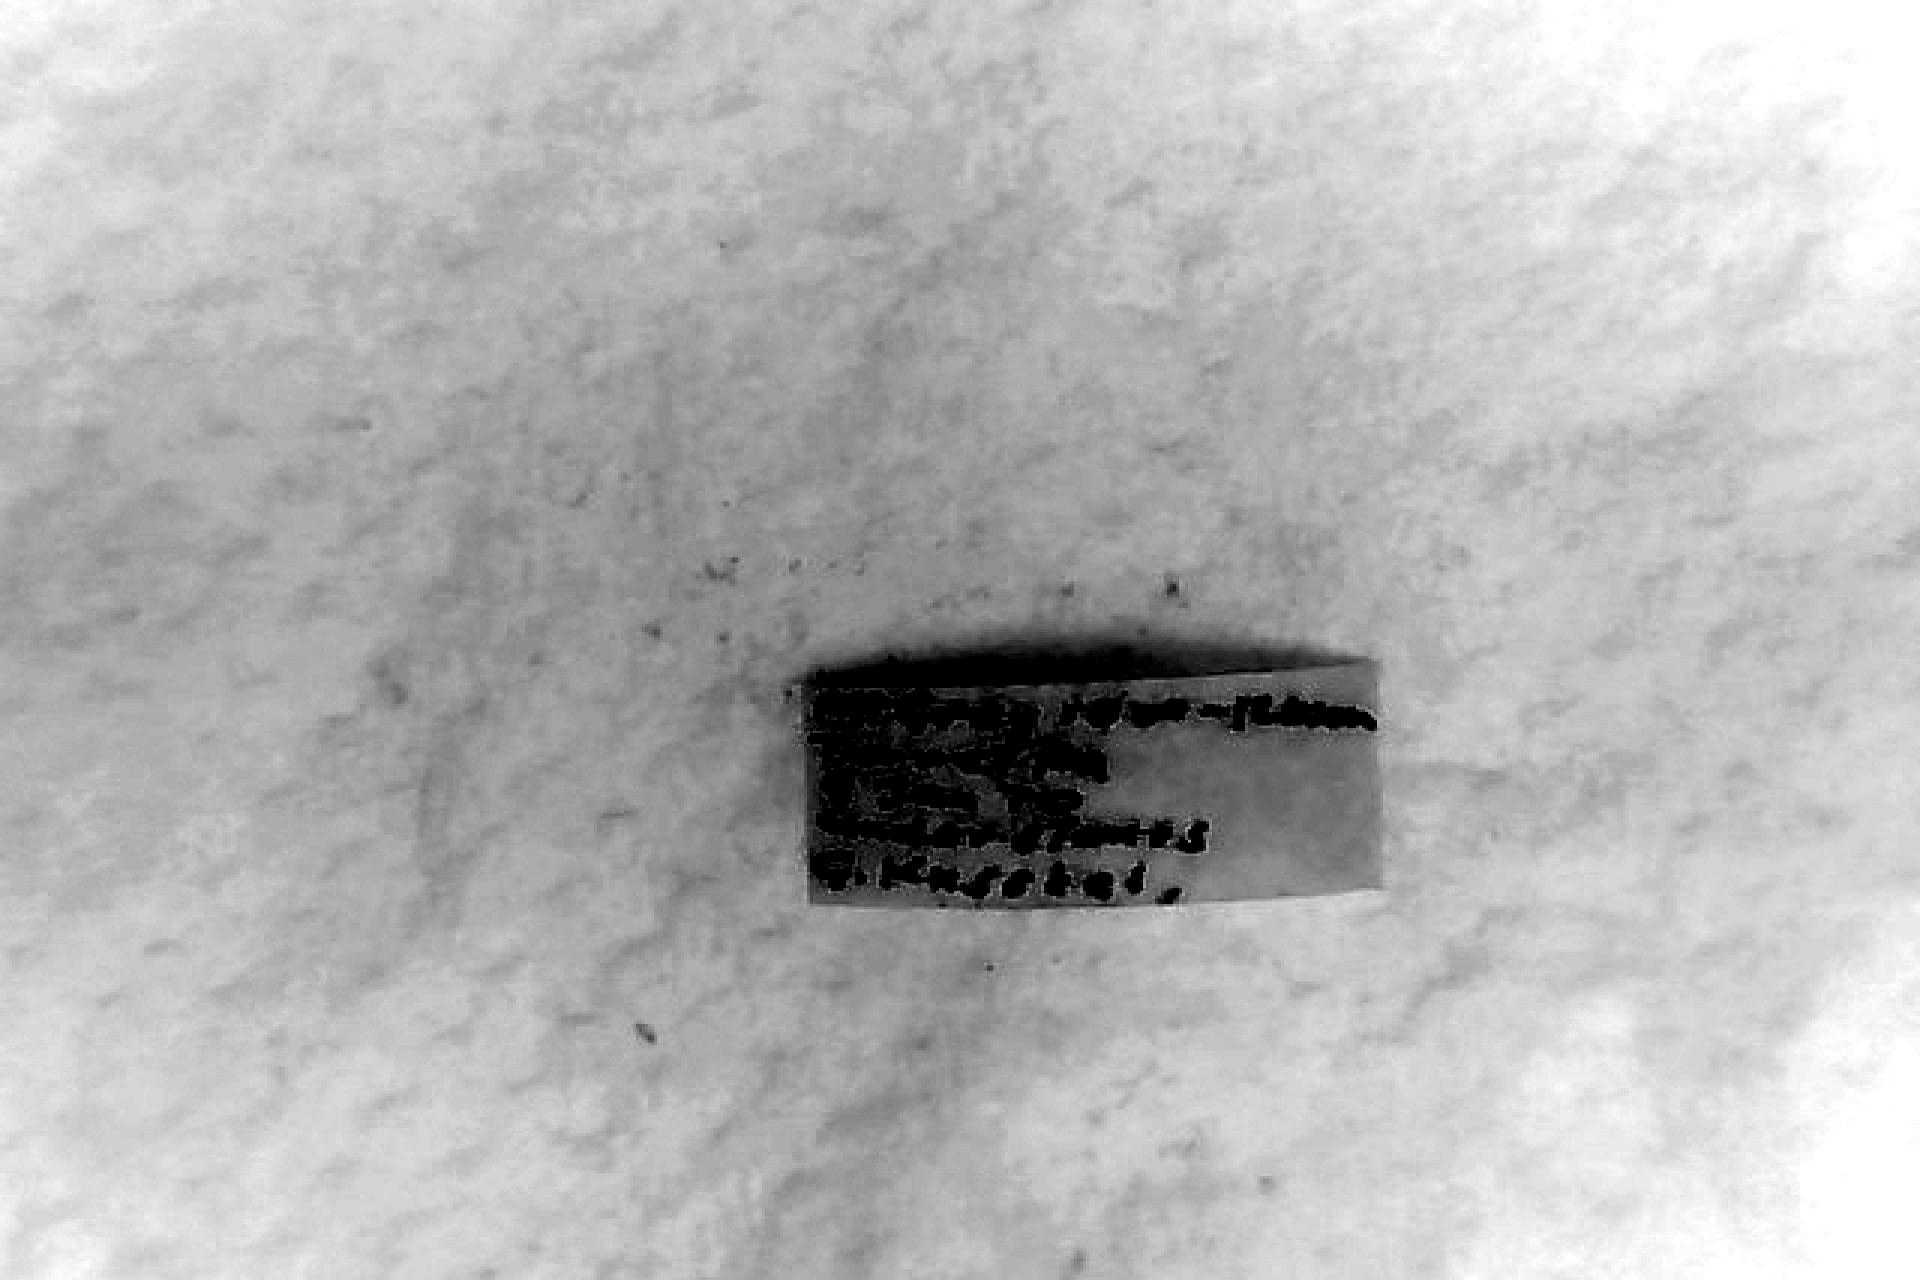hand_label: (802, 660, 1380, 905)
